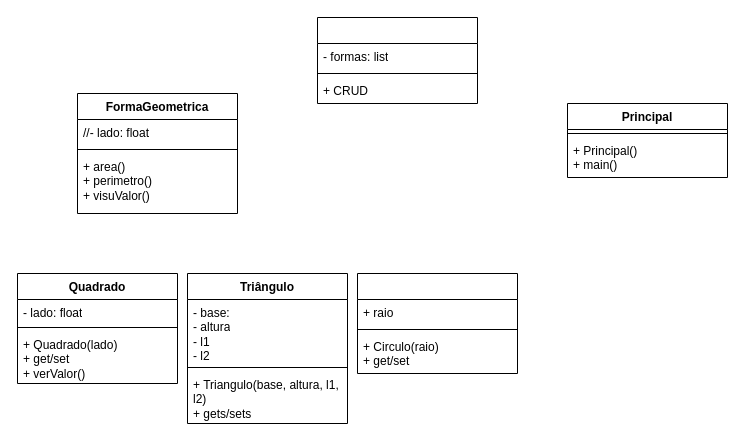
This 745x444 diagram has some shape labels left out. The shapes that lost their labels are listed below. From the top down, each one's box as (x1, y1, x2, y2) in pixels, then its label:
(316, 16, 478, 104): Compilado
(356, 272, 518, 374): Círculo
